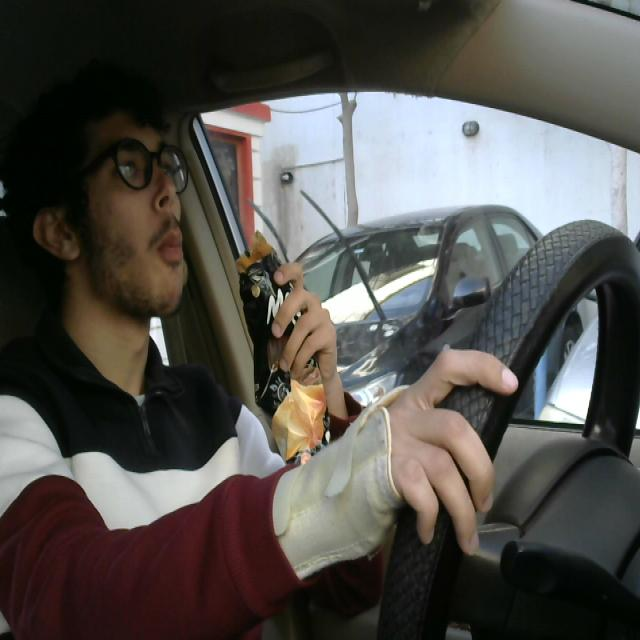eating: (230, 226, 342, 504)
